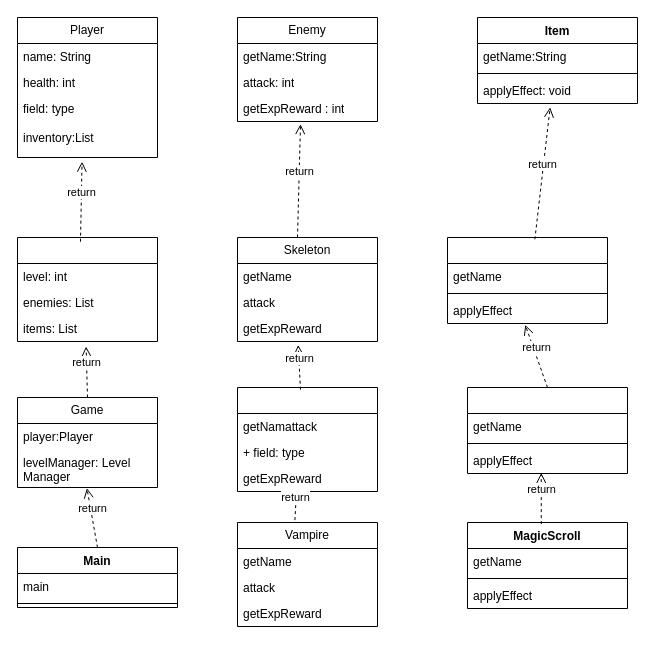
Image size: 655x647. Some labels were removed from this diagram. The box of each missing label's shape, as (x1, y1, x2, y2) in pixels:
GoldCoin: (446, 236, 608, 324)
HealthElixir: (466, 386, 628, 474)
LevelManager: (16, 236, 158, 342)
Zombie: (236, 386, 378, 492)
